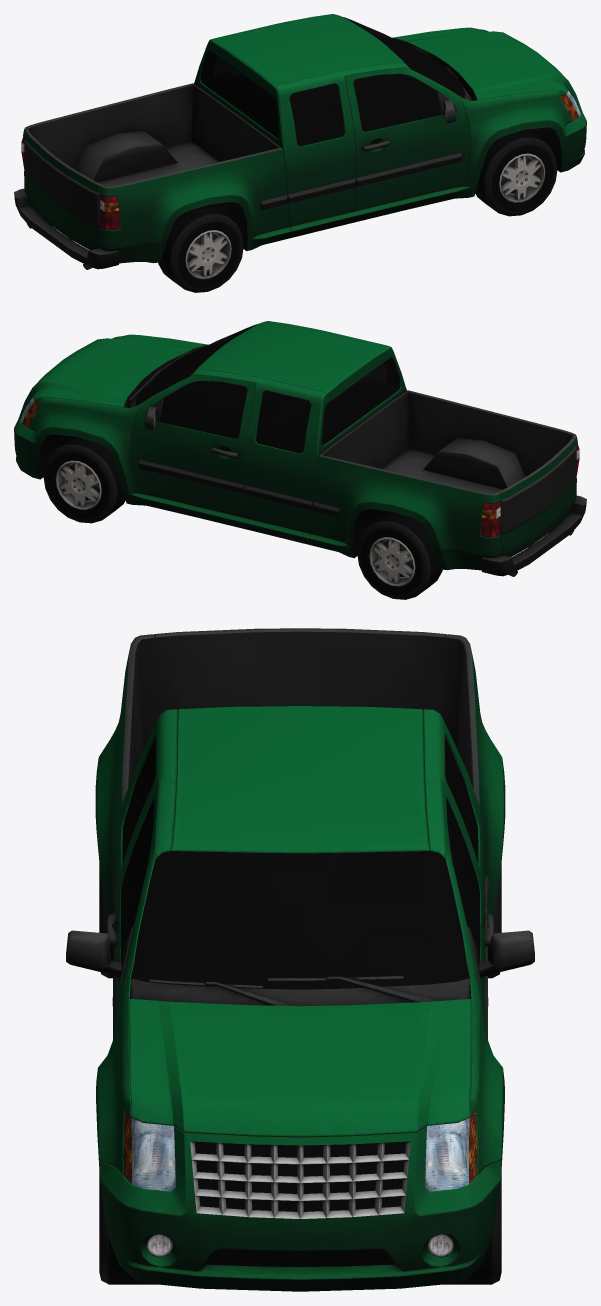
Rendered from pickup.glb.
3 views of the same model, one above another, from view 1: azimuth 30°, elevation 25°; view 2: azimuth 150°, elevation 25°; view 3: azimuth 270°, elevation 25° (orthographic). The views are drawn at different scales.
Visible parts, largest first — view 1: body, wheel (×2); view 2: body, wheel (×2); view 3: body, wheel (×2).
Boxes of the visible parts, bbox=[...] form: body: bbox=[14, 14, 586, 269]; wheel (×2): bbox=[158, 129, 557, 292]; body: bbox=[14, 321, 586, 576]; wheel (×2): bbox=[43, 436, 442, 599]; body: bbox=[66, 628, 534, 1291]; wheel (×2): bbox=[99, 1172, 501, 1284].
Bounding box in the file's own units: 5.18 × 1.7 × 2.07.
4 materials, 3 textured.
